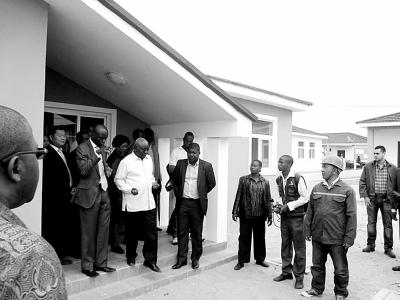boots: (143, 260, 160, 271), (301, 289, 322, 297), (273, 272, 293, 280), (82, 268, 99, 277), (94, 266, 116, 272), (110, 245, 125, 253), (172, 260, 187, 268), (384, 249, 396, 258), (362, 245, 375, 252), (256, 259, 269, 266), (294, 279, 303, 288), (234, 262, 244, 269), (127, 257, 135, 265), (192, 260, 199, 269), (335, 294, 344, 300), (392, 265, 400, 271), (172, 237, 178, 244)
hard-hat: (321, 154, 344, 171)
person: (0, 105, 68, 300), (300, 154, 358, 300), (70, 123, 116, 276), (112, 137, 162, 272), (170, 143, 216, 269), (41, 126, 80, 265), (272, 154, 310, 289), (231, 158, 274, 269), (359, 145, 399, 258), (166, 131, 195, 244), (104, 134, 131, 254)
ppe-suit: (41, 144, 80, 264)
